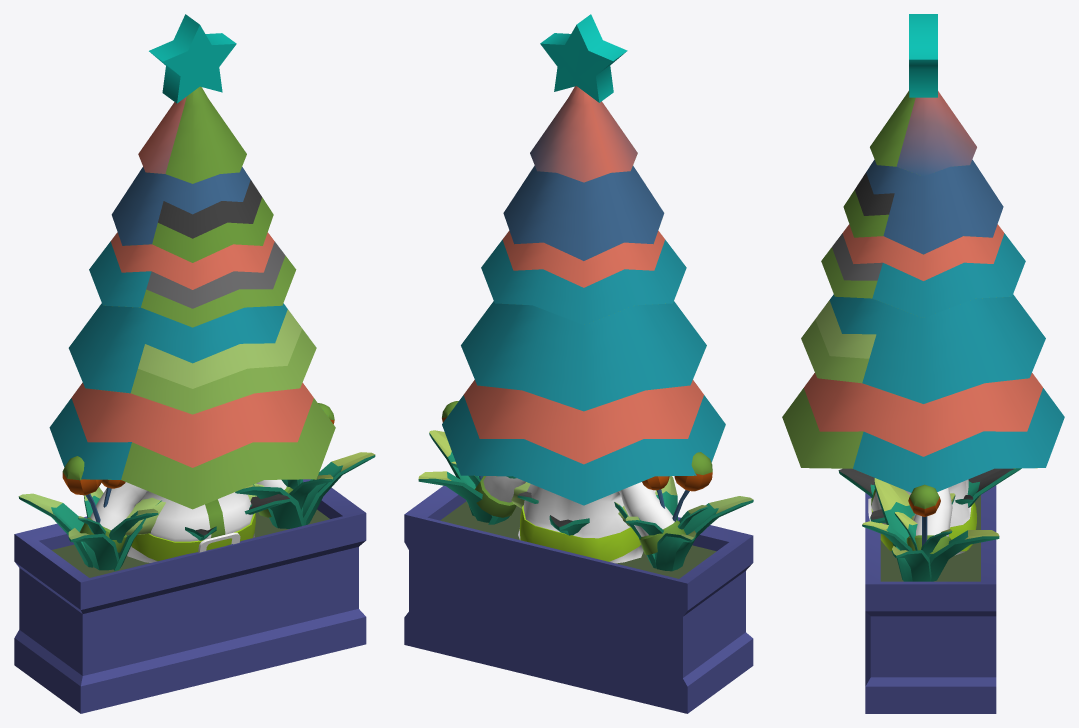
The model's file is winter theme.fbx.
The picture shows the model from 3 angles, left to right: view 1: azimuth 30°, elevation 25°; view 2: azimuth 150°, elevation 25°; view 3: azimuth 270°, elevation 25°; orthographic projection.
Visible parts, largest first — view 1: flower_box, PineSnow 1, PineSnow 2, santa outfit, snow big; view 2: PineSnow 2, flower_box, santa outfit; view 3: PineSnow 2, flower_box, PineSnow 1, santa outfit.
Boxes of the visible parts, box(x1,y1,x2,y2) form: flower_box: box(14, 403, 375, 713); PineSnow 1: box(86, 86, 335, 509); PineSnow 2: box(49, 14, 236, 479); santa outfit: box(79, 479, 293, 562); snow big: box(125, 483, 264, 535); PineSnow 2: box(442, 14, 725, 505); flower_box: box(404, 401, 753, 713); santa outfit: box(475, 476, 685, 563); PineSnow 2: box(853, 14, 1064, 492); flower_box: box(838, 468, 1021, 713); PineSnow 1: box(782, 90, 1037, 468); santa outfit: box(868, 479, 976, 555).
Size of the model in its own units: 835 by 1615 by 656.
